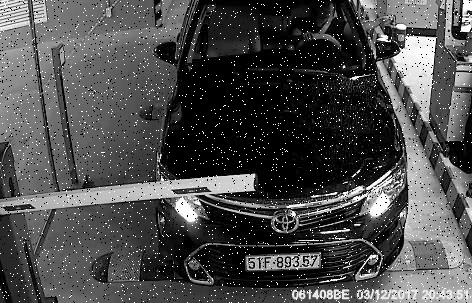License-plate: (237, 245, 332, 277)
